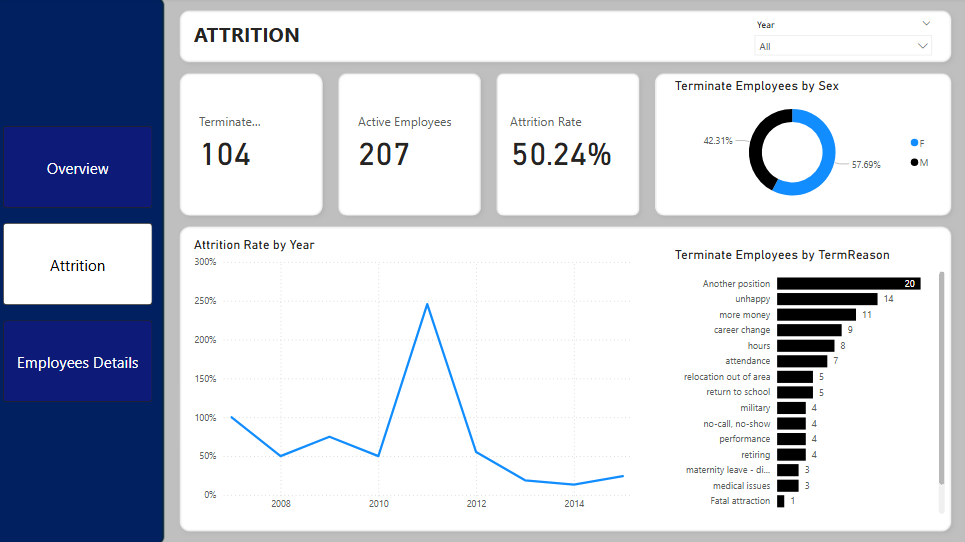

What the dashboard file says about the page in this screenshot:
{"tool":"powerbi","page":{"name":"Attrition","canvas":[1280,720],"ordinal":1},"visuals":[{"type":"textbox","box":[255.7,23.7,282.1,56.7],"z":0},{"type":"slicer","fields":{"Values":["Dataset.Year"]},"box":[990,23.7,254.4,67.2],"z":1000},{"type":"cardVisual","fields":{"Data":["Measures (2).Attrition Rate"]},"box":[665.7,127.9,179.3,123.9],"z":2000},{"type":"cardVisual","fields":{"Data":["Measures (2).Active Employees"]},"box":[465.3,127.9,163.5,123.9],"z":3000},{"type":"cardVisual","fields":{"Data":["Measures (2).Terminate Employees"]},"box":[255.7,127.9,162.1,123.9],"z":4000},{"type":"donutChart","fields":{"Y":["Measures (2).Terminate Employees"],"Category":["Dataset.Sex"]},"box":[889.8,105.5,354.6,176.6],"z":5000},{"type":"lineChart","fields":{"Y":["Measures (2).Attrition Rate"],"Category":["Dataset.Year"]},"box":[255.7,315.1,589.2,370.4],"z":6000},{"type":"barChart","fields":{"Y":["Measures (2).Terminate Employees"],"Category":["Dataset.TermReason"]},"box":[889.8,328.2,366.5,357.2],"z":7000},{"type":"pageNavigator","box":[9.2,168.7,197.7,366.5],"z":7001}]}

Visuals, with their boxes on the page's 1280x720 design canvas (x1, y1, x2, y2). These are canvas units, not pixel positions in the 965x542 screenshot, which may show the page scaled, cropped or inside an application window:
textbox: l=256, t=24, r=538, b=80
slicer - Dataset.Year: l=990, t=24, r=1244, b=91
cardVisual - Measures (2).Attrition Rate: l=666, t=128, r=845, b=252
cardVisual - Measures (2).Active Employees: l=465, t=128, r=629, b=252
cardVisual - Measures (2).Terminate Employees: l=256, t=128, r=418, b=252
donutChart - Measures (2).Terminate Employees x Dataset.Sex: l=890, t=106, r=1244, b=282
lineChart - Measures (2).Attrition Rate x Dataset.Year: l=256, t=315, r=845, b=686
barChart - Measures (2).Terminate Employees x Dataset.TermReason: l=890, t=328, r=1256, b=685
pageNavigator: l=9, t=169, r=207, b=535
